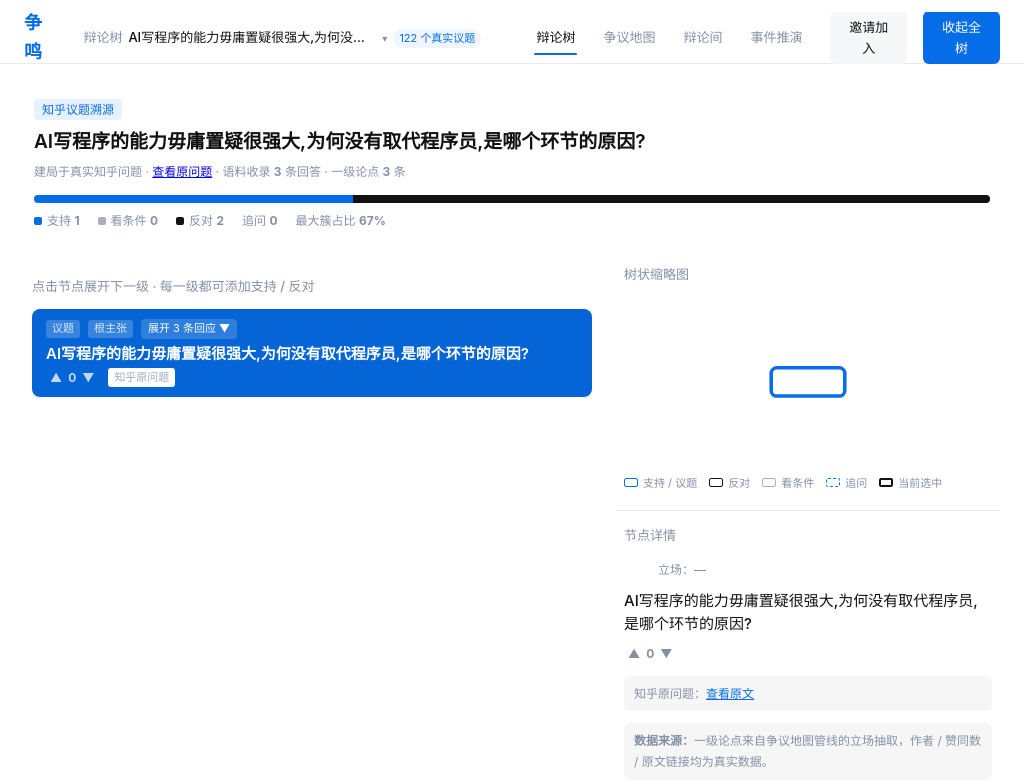
Test: 辩论树 · 参与行为 › 争议地图视图可来回切换
Step 1. Click the button "争议地图" → (629,38), box [591,21,667,54]
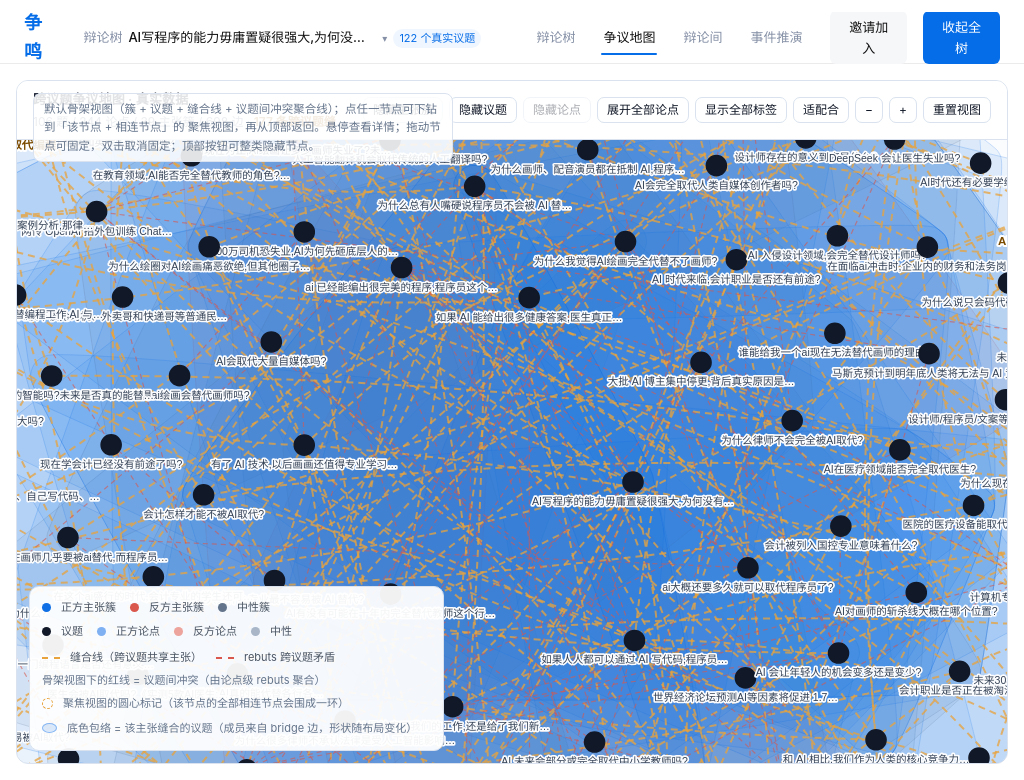
Expected: the element with class "controversy-map" is shown
Step 2. Click the button "辩论树" → (556,38), box [524,21,587,54]
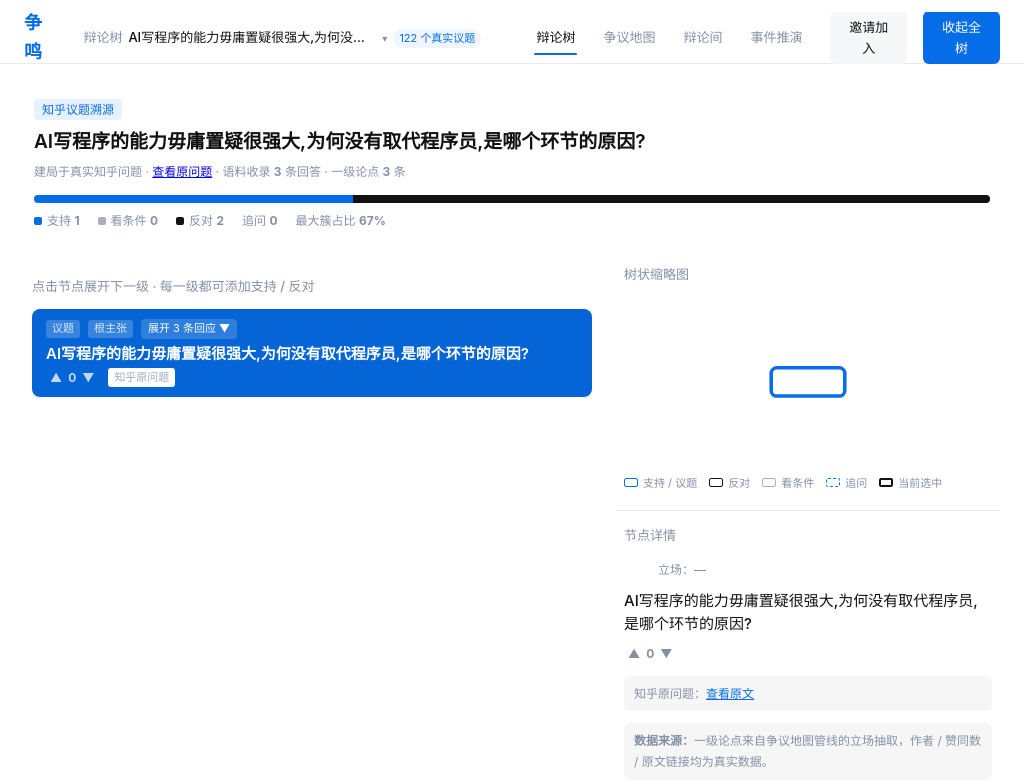
Expected: the element named "辩论树" is shown, [24,262,600,417]
Expected: the text "树状缩略图" is shown, [624,266,689,282]
